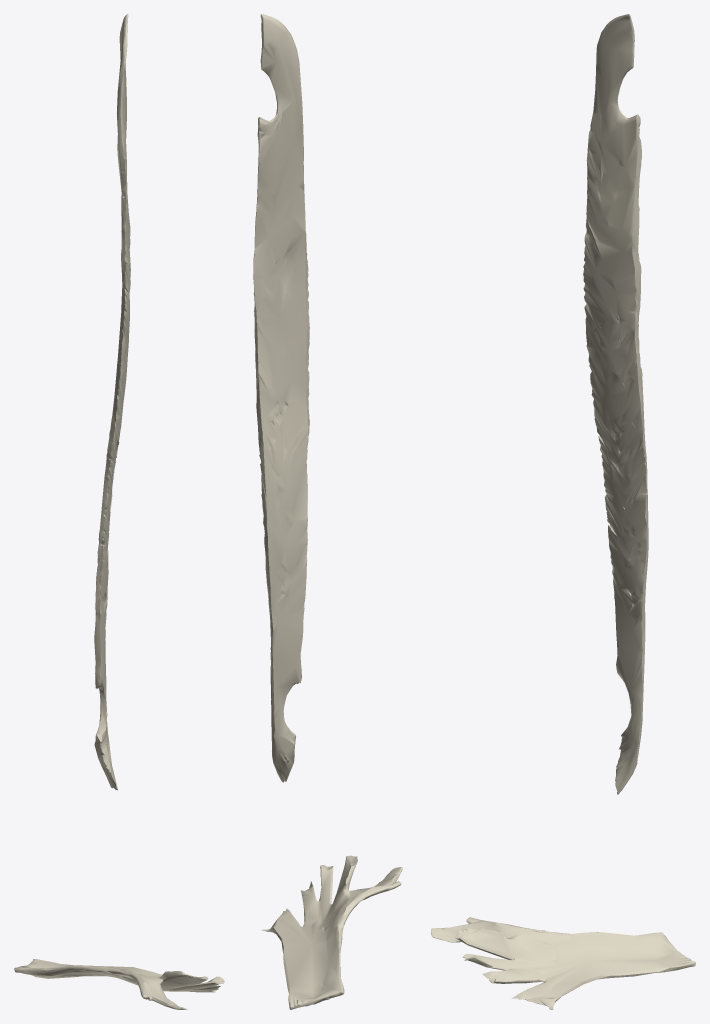
Rendered from joints.lower_limb_left.glb.
The picture shows the model from 3 angles, left to right: view 1: azimuth 30°, elevation 25°; view 2: azimuth 150°, elevation 25°; view 3: azimuth 270°, elevation 25°; orthographic projection. The views are drawn at different scales.
Parts seen in each view (by area): view 1: interosseous_membrane_of_left_leg, left_long_plantar_ligament; view 2: interosseous_membrane_of_left_leg, left_long_plantar_ligament; view 3: interosseous_membrane_of_left_leg, left_long_plantar_ligament.
Part boxes in pixels (x1=…): interosseous_membrane_of_left_leg: x1=94, y1=14, x2=130, y2=790; left_long_plantar_ligament: x1=14, y1=959, x2=224, y2=1009; interosseous_membrane_of_left_leg: x1=253, y1=14, x2=309, y2=782; left_long_plantar_ligament: x1=261, y1=855, x2=402, y2=1009; interosseous_membrane_of_left_leg: x1=583, y1=14, x2=648, y2=794; left_long_plantar_ligament: x1=431, y1=917, x2=695, y2=1009.
Size of the model in its own units: 0.0584 by 0.3974 by 0.097.
